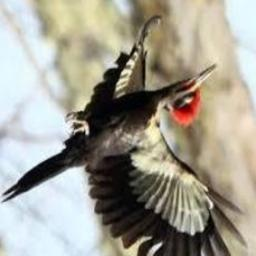Woodpecker: (1, 17, 247, 256)
